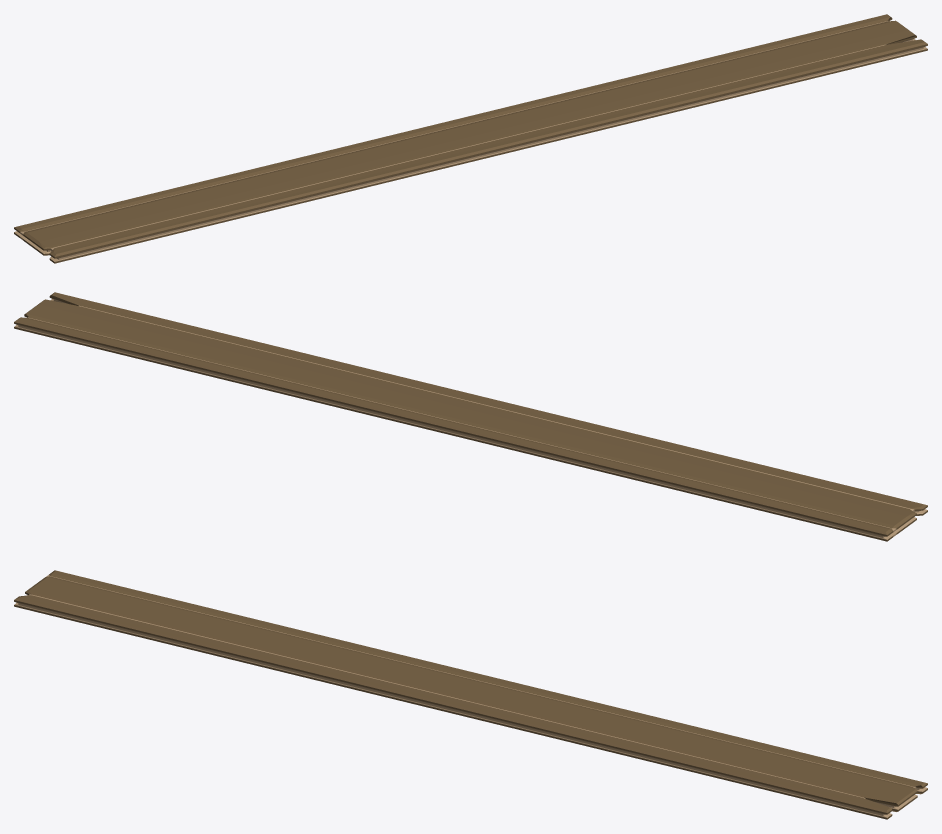
File: WoodenBoard.fbx
The picture shows the model from 3 angles, top to bottom: view 1: azimuth 30°, elevation 25°; view 2: azimuth 150°, elevation 25°; view 3: azimuth 330°, elevation 25°; orthographic projection.
Visible parts, largest first — view 1: WoodenBoard; view 2: WoodenBoard; view 3: WoodenBoard.
Part boxes in pixels (bbox=[...]): WoodenBoard: bbox=[14, 14, 927, 263]; WoodenBoard: bbox=[14, 292, 927, 541]; WoodenBoard: bbox=[14, 570, 927, 819].
Bounding box in the file's own units: 831 × 8.14 × 67.06.
